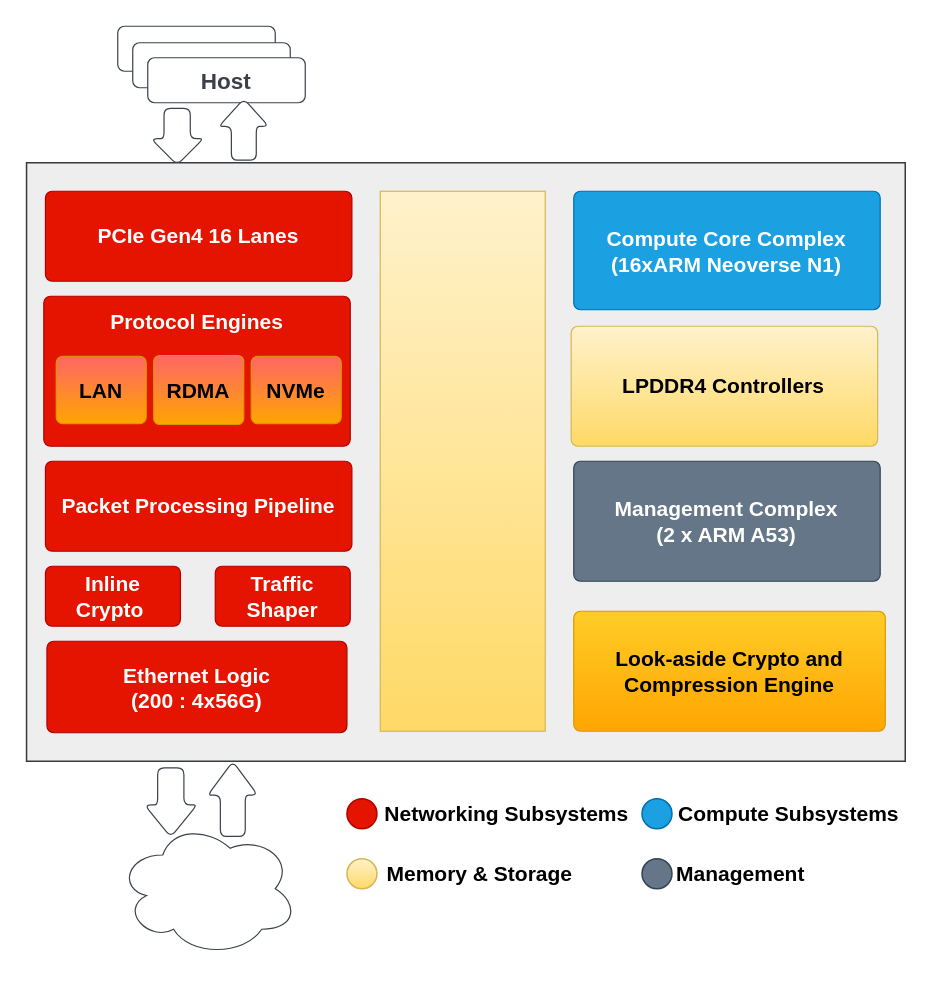
The diagram is 941 pixels wide and 983 high, and some of its shapes have lost their labels. Each missing label, with the centre of its shape:
"L3 Cache (Last Level Cache)" belongs at pixel 462 460.
"Network" belongs at pixel 207 888.
